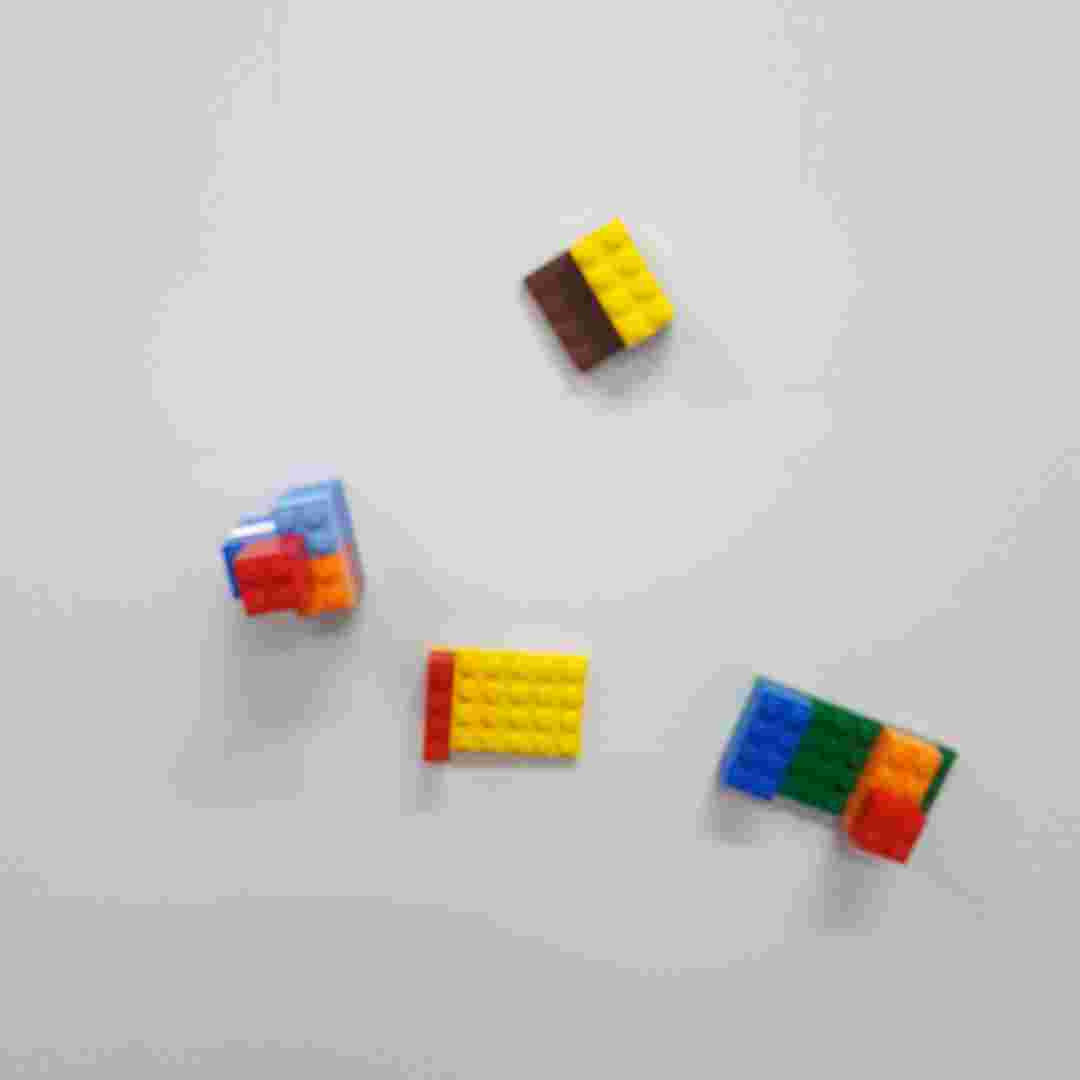LEGO: (716, 677, 958, 862), (520, 216, 679, 374), (420, 640, 591, 771), (216, 479, 374, 613)
